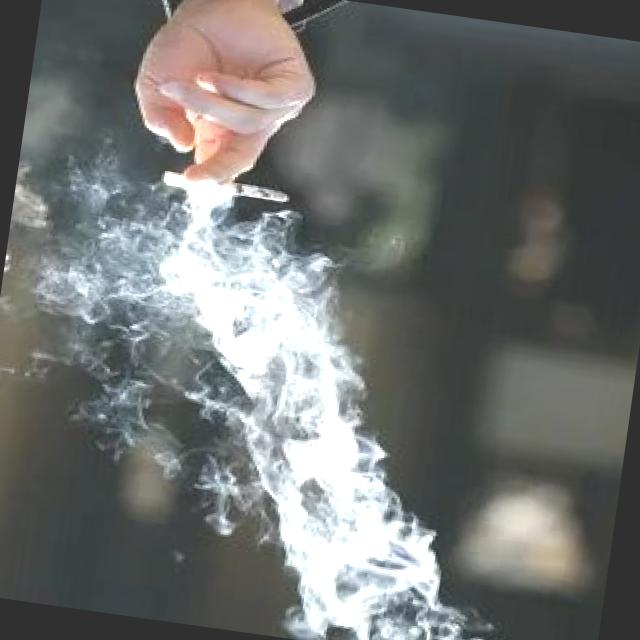smoke: (146, 165, 296, 209)
